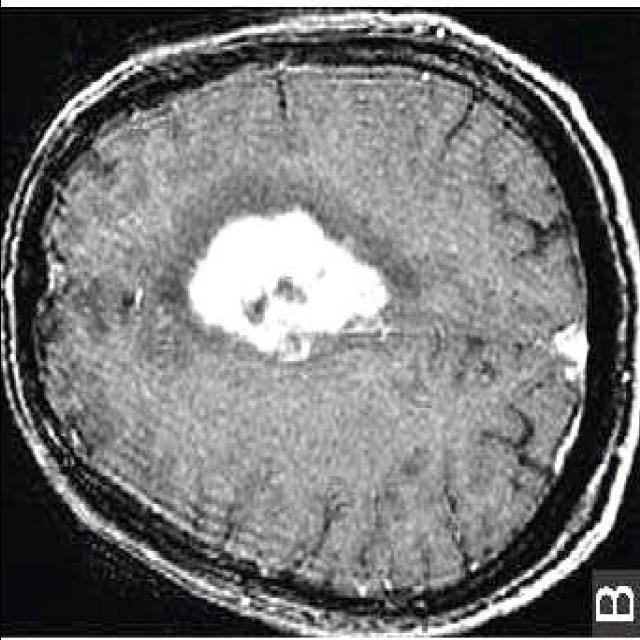tumor: (183, 206, 389, 361)
